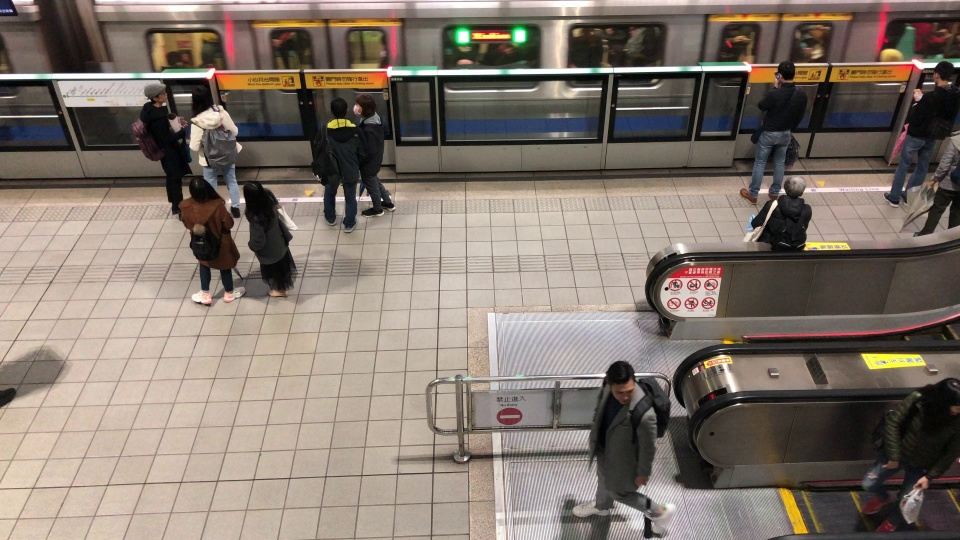person_head: (931, 374, 960, 427), (604, 362, 638, 405), (183, 175, 222, 208), (240, 181, 268, 216), (188, 86, 214, 116), (779, 175, 808, 201), (930, 60, 955, 89), (773, 60, 797, 85), (354, 93, 377, 118), (142, 83, 168, 104), (324, 97, 348, 119), (952, 111, 960, 134)
person_vbox: (568, 362, 679, 532), (856, 374, 960, 536), (884, 60, 960, 213), (166, 174, 248, 308), (740, 59, 809, 201), (125, 84, 193, 220), (179, 84, 245, 216), (302, 97, 362, 237), (235, 180, 302, 298), (899, 110, 960, 239), (346, 93, 398, 223), (744, 173, 811, 255)
